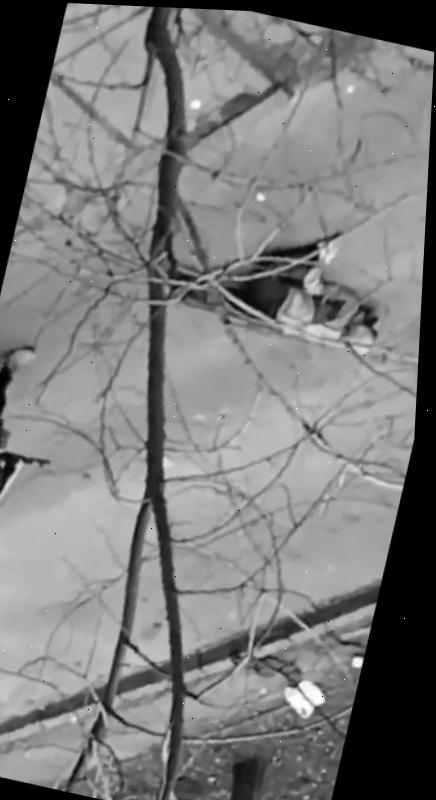person: (151, 201, 403, 362), (0, 334, 83, 560)
